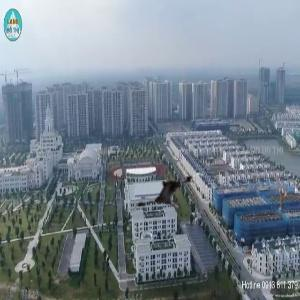drone: (130, 154, 210, 234)
